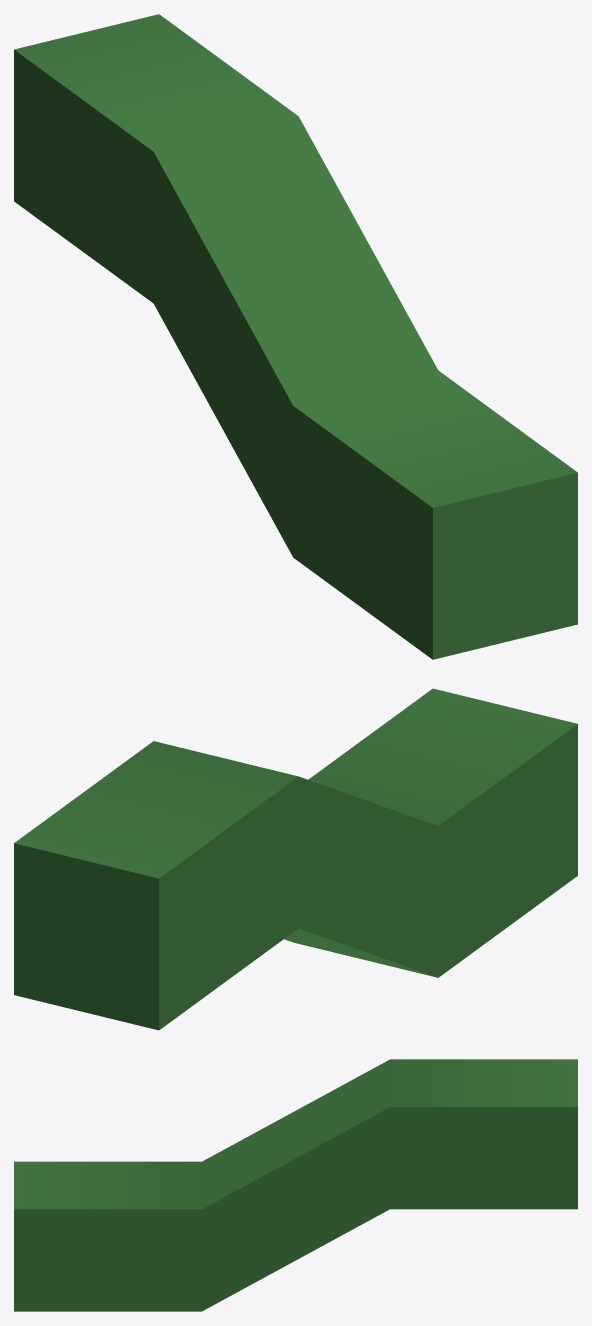
The model's file is map_down.fbx.
3 views of the same model, one above another, from view 1: azimuth 30°, elevation 25°; view 2: azimuth 150°, elevation 25°; view 3: azimuth 270°, elevation 25° (orthographic). The views are drawn at different scales.
Visible parts, largest first — view 1: pCube3; view 2: pCube3; view 3: pCube3.
Boxes of the visible parts, box(x1,y1,x2,y2) form: pCube3: box(14, 14, 577, 659); pCube3: box(14, 688, 577, 1030); pCube3: box(14, 1059, 577, 1311).
Size of the model in its own units: 250 by 500 by 1250.
